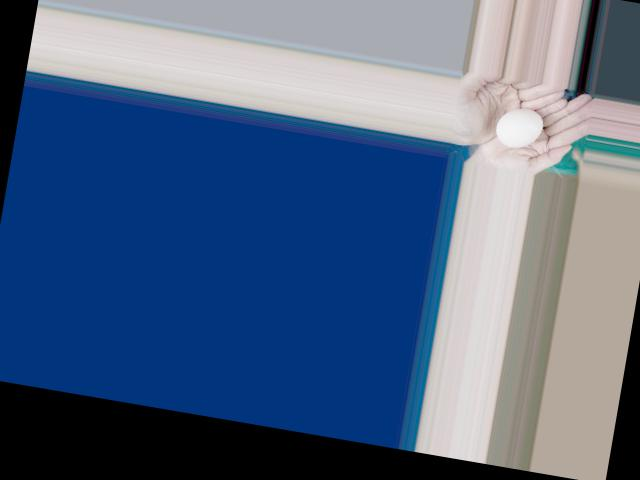egg: (494, 105, 545, 150)
